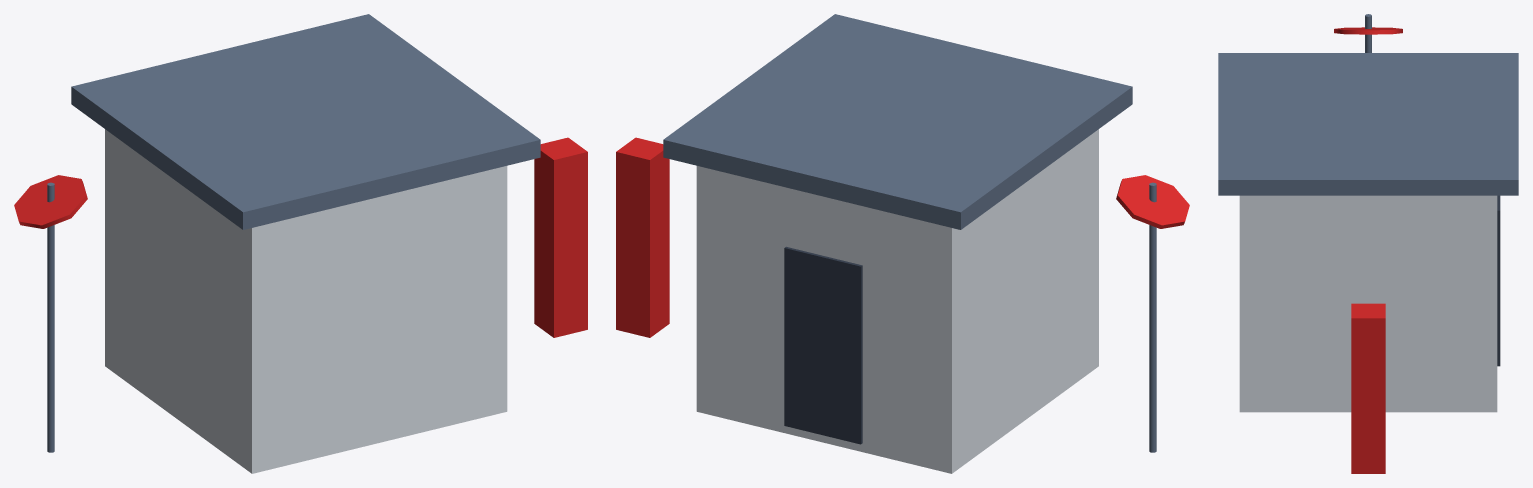
Rendered from yard-guard-shack-body-authored-atlas.glb.
3 renders of one model, left to right at view 1: azimuth 30°, elevation 25°; view 2: azimuth 150°, elevation 25°; view 3: azimuth 270°, elevation 25°, orthographic. The views are drawn at different scales.
Parts seen in each view (by area): view 1: Authored surface.029; view 2: Authored surface.029; view 3: Authored surface.029.
Part boxes in pixels (x1,y1,x2,y2): Authored surface.029: (14,14,587,473); Authored surface.029: (616,14,1189,473); Authored surface.029: (1218,14,1518,473).
Size of the model in its own units: 6.58 by 3.1 by 3.5.
1 material, 1 textured.
